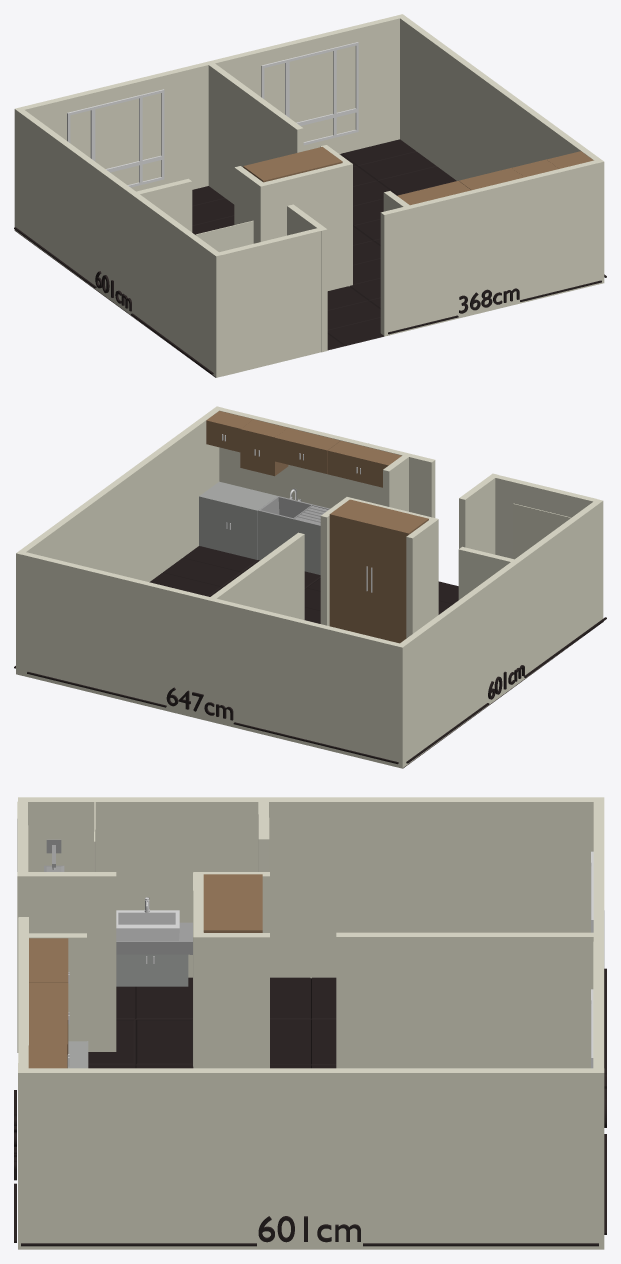
The picture shows the model from 3 angles, top to bottom: view 1: azimuth 30°, elevation 25°; view 2: azimuth 150°, elevation 25°; view 3: azimuth 270°, elevation 25°; orthographic projection. The views are drawn at different scales.
Parts seen in each view (by area): view 1: backwall, frontwall, leftwall, rightwall, frontwall2, floor, middlewall, entrywall, windowwall, windowwall.001, tallCabinet, crwall (+7 smaller); view 2: backwall, leftwall, rightwall, tallCabinet, frontwall, floor, middlewall, sinktable.003, crwall, frontwall2, leftentrywall, sinktable.001 (+11 smaller); view 3: rightwall, leftwall, middlewall, floor, middlewall2, leftentrywall, tallCabinet, backwall, Text, sinkCabinet.001, kitchenwall, crsink.001 (+11 smaller).
Boxes of the visible parts, x1,y1,x2,y2 form: backwall: [21, 15, 399, 191]; frontwall: [380, 160, 597, 336]; leftwall: [14, 107, 222, 377]; rightwall: [397, 14, 604, 284]; frontwall2: [219, 228, 320, 376]; floor: [14, 139, 456, 377]; middlewall: [208, 63, 303, 204]; entrywall: [260, 163, 352, 290]; windowwall: [261, 42, 358, 145]; windowwall.001: [67, 89, 164, 187]; tallCabinet: [243, 147, 342, 182]; crwall: [234, 166, 266, 243]; backwall: [22, 552, 399, 766]; leftwall: [396, 499, 603, 768]; rightwall: [16, 406, 222, 675]; tallCabinet: [329, 499, 428, 643]; frontwall: [219, 408, 435, 517]; floor: [149, 546, 603, 768]; middlewall: [210, 532, 304, 619]; sinktable.003: [199, 481, 277, 559]; crwall: [406, 517, 438, 638]; frontwall2: [495, 475, 596, 558]; leftentrywall: [459, 473, 498, 554]; sinktable.001: [258, 510, 320, 574]; rightwall: [18, 1068, 604, 1249]; leftwall: [18, 797, 604, 978]; middlewall: [336, 932, 593, 1068]; floor: [88, 977, 336, 1068]; middlewall2: [193, 933, 269, 1068]; leftentrywall: [17, 872, 116, 1052]; tallCabinet: [203, 874, 262, 932]; backwall: [593, 801, 604, 1068]; Text: [21, 1216, 598, 1246]; sinkCabinet.001: [116, 954, 188, 986]; kitchenwall: [20, 933, 86, 1041]; crsink.001: [116, 910, 179, 940].
Bounding box in the file's own units: 6.82 × 2.02 × 6.08.
